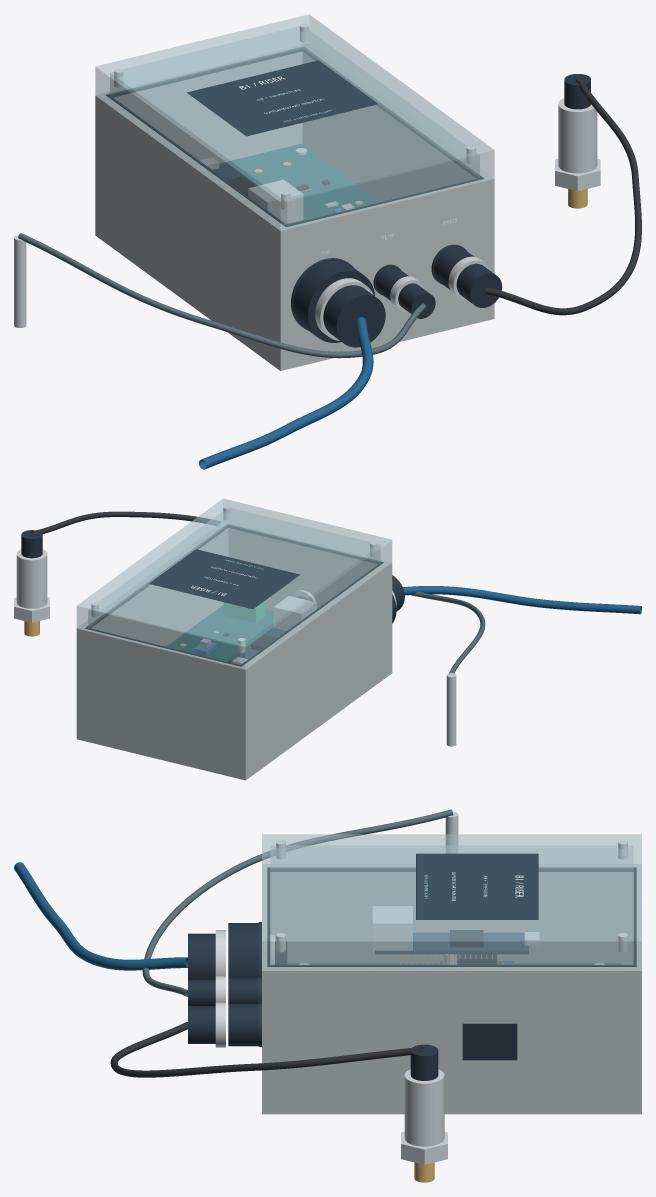
The model's file is B1_concept_interactive.glb.
The picture shows the model from 3 angles, top to bottom: view 1: azimuth 30°, elevation 25°; view 2: azimuth 150°, elevation 25°; view 3: azimuth 270°, elevation 25°; orthographic projection. The views are drawn at different scales.
Visible parts, largest first — view 1: 01_Polycarbonate_enclosure_surrogate, 02_Clear_polycarbonate_lid, Exterior decal — not product certification, 20_Main_B1_carrier_PCB_NOT_ROUTED, Presentation DS18B20 cable (not scale cable length), 03_Lid_seal_visual_marker, Presentation pressure sensor cord (not scale cable length), Presentation PoE Ethernet cord (not scale cable length), 74_POE_ETH_external_male_cord, 80_Pressure_transmitter_body_illustrative, 70_POE_ETH_female_panel_socket, 33_RJ45_socket (+7 smaller); view 2: 01_Polycarbonate_enclosure_surrogate, 02_Clear_polycarbonate_lid, Exterior decal — not product certification, 20_Main_B1_carrier_PCB_NOT_ROUTED, Presentation PoE Ethernet cord (not scale cable length), 03_Lid_seal_visual_marker, 80_Pressure_transmitter_body_illustrative, Presentation pressure sensor cord (not scale cable length), 33_RJ45_socket, 83_DS18B20_probe_stainless, Presentation DS18B20 cable (not scale cable length), 60_J1_PRESSURE_LOOP_2PIN (+2 smaller); view 3: 01_Polycarbonate_enclosure_surrogate, 02_Clear_polycarbonate_lid, Exterior decal — not product certification, Presentation pressure sensor cord (not scale cable length), 80_Pressure_transmitter_body_illustrative, Presentation DS18B20 cable (not scale cable length), 03_Lid_seal_visual_marker, Presentation PoE Ethernet cord (not scale cable length), 76_AUX_RESERVED_UNDRILLED_WALL_MARKER, 30_Waveshare_ESP32_S3_ETH_surrogate, 33_RJ45_socket, 70_POE_ETH_female_panel_socket (+8 smaller).
Boxes of the visible parts, <box> form: 01_Polycarbonate_enclosure_surrogate: <box>95,43,494,370</box>; 02_Clear_polycarbonate_lid: <box>95,14,494,230</box>; Exterior decal — not product certification: <box>187,60,377,136</box>; 20_Main_B1_carrier_PCB_NOT_ROUTED: <box>219,144,380,220</box>; Presentation DS18B20 cable (not scale cable length): <box>18,233,426,358</box>; 03_Lid_seal_visual_marker: <box>106,47,483,226</box>; Presentation pressure sensor cord (not scale cable length): <box>485,77,641,315</box>; Presentation PoE Ethernet cord (not scale cable length): <box>199,317,373,469</box>; 74_POE_ETH_external_male_cord: <box>323,285,385,347</box>; 80_Pressure_transmitter_body_illustrative: <box>558,98,597,173</box>; 70_POE_ETH_female_panel_socket: <box>293,260,374,342</box>; 33_RJ45_socket: <box>248,180,302,223</box>; 01_Polycarbonate_enclosure_surrogate: <box>76,521,392,780</box>; 02_Clear_polycarbonate_lid: <box>76,498,392,669</box>; Exterior decal — not product certification: <box>149,549,299,609</box>; 20_Main_B1_carrier_PCB_NOT_ROUTED: <box>166,605,272,661</box>; Presentation PoE Ethernet cord (not scale cable length): <box>403,586,641,614</box>; 03_Lid_seal_visual_marker: <box>85,524,383,666</box>; 80_Pressure_transmitter_body_illustrative: <box>16,549,47,608</box>; Presentation pressure sensor cord (not scale cable length): <box>31,511,220,534</box>; 33_RJ45_socket: <box>273,596,316,630</box>; 83_DS18B20_probe_stainless: <box>446,673,456,746</box>; Presentation DS18B20 cable (not scale cable length): <box>410,591,485,674</box>; 60_J1_PRESSURE_LOOP_2PIN: <box>224,601,265,622</box>; 01_Polycarbonate_enclosure_surrogate: <box>262,864,641,1114</box>; 02_Clear_polycarbonate_lid: <box>262,834,641,970</box>; Exterior decal — not product certification: <box>416,853,538,919</box>; Presentation pressure sensor cord (not scale cable length): <box>110,1022,422,1077</box>; 80_Pressure_transmitter_body_illustrative: <box>404,1069,444,1146</box>; Presentation DS18B20 cable (not scale cable length): <box>142,809,453,996</box>; 03_Lid_seal_visual_marker: <box>267,867,636,966</box>; Presentation PoE Ethernet cord (not scale cable length): <box>14,862,187,970</box>; 76_AUX_RESERVED_UNDRILLED_WALL_MARKER: <box>462,1023,517,1060</box>; 30_Waveshare_ESP32_S3_ETH_surrogate: <box>375,933,528,953</box>; 33_RJ45_socket: <box>373,906,412,950</box>; 70_POE_ETH_female_panel_socket: <box>228,923,258,977</box>.
Bounding box in the file's own units: 335 × 91.11 × 297.
